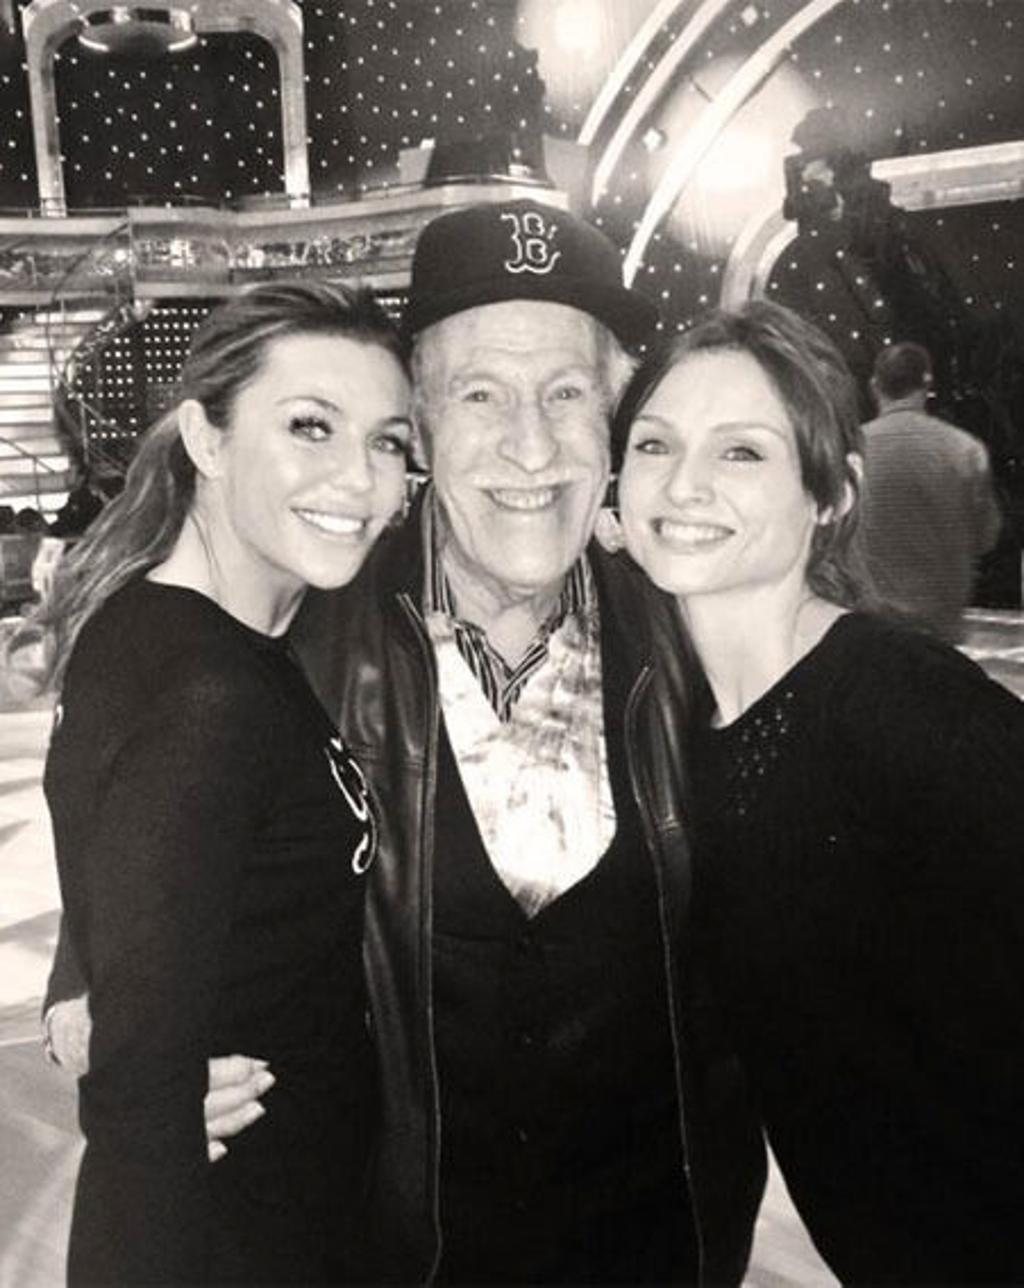face: (413, 277, 614, 584), (242, 322, 411, 589), (626, 335, 790, 592)
